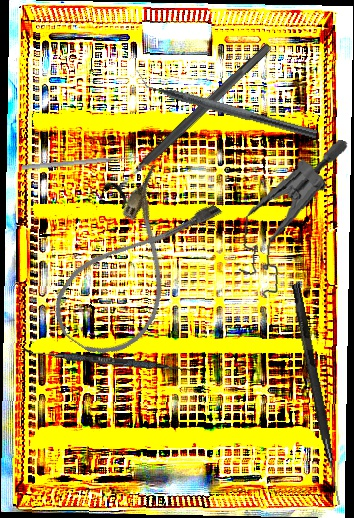Cannula: (40, 161, 228, 372)
Chopper: (131, 67, 321, 140)
Fixation Ring: (99, 33, 282, 211)
Hook Surgical: (288, 283, 347, 506)
Pusher: (21, 153, 139, 172)
Spatula Surgical: (20, 348, 192, 373)
Speculum: (233, 130, 350, 306)
